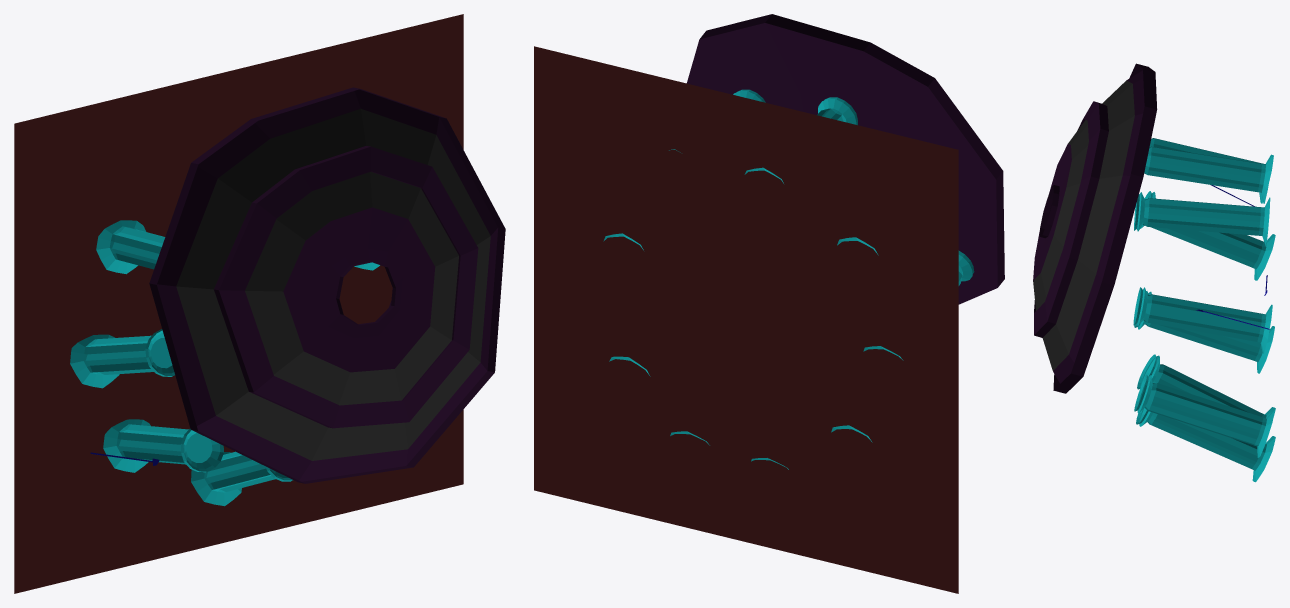
Rendered from SpearYard1d.obj.
The picture shows the model from 3 angles, left to right: view 1: azimuth 30°, elevation 25°; view 2: azimuth 150°, elevation 25°; view 3: azimuth 270°, elevation 25°; orthographic projection. The views are drawn at different scales.
Parts seen in each view (by area): view 1: Plane.012_Plane.013, Plane, Plane.001_Plane.012, Plane.002, Plane.003_Plane.014, Plane.009_Plane.020; view 2: Plane, Plane.012_Plane.013, Plane.008_Plane.019; view 3: Plane.012_Plane.013, Plane.005_Plane.016, Plane.006_Plane.017, Plane.007_Plane.018, Plane.008_Plane.019, Plane.004_Plane.015, Plane.002, Plane.003_Plane.014, Plane.001_Plane.012, Plane.009_Plane.020.
Boxes of the visible parts, <box> form: Plane.012_Plane.013: <box>149,87,505,483</box>; Plane: <box>14,14,463,593</box>; Plane.001_Plane.012: <box>103,419,223,472</box>; Plane.002: <box>70,329,174,388</box>; Plane.003_Plane.014: <box>191,451,292,506</box>; Plane.009_Plane.020: <box>96,220,165,274</box>; Plane: <box>534,46,958,593</box>; Plane.012_Plane.013: <box>686,14,1004,304</box>; Plane.008_Plane.019: <box>744,97,857,183</box>; Plane.012_Plane.013: <box>1033,63,1157,393</box>; Plane.005_Plane.016: <box>1134,374,1274,457</box>; Plane.006_Plane.017: <box>1133,287,1272,353</box>; Plane.007_Plane.018: <box>1134,192,1270,246</box>; Plane.008_Plane.019: <box>1144,146,1272,203</box>; Plane.004_Plane.015: <box>1136,408,1275,482</box>; Plane.002: <box>1140,191,1275,280</box>; Plane.003_Plane.014: <box>1137,354,1275,418</box>; Plane.001_Plane.012: <box>1134,291,1274,373</box>; Plane.009_Plane.020: <box>1149,138,1273,203</box>.
Size of the model in its own units: 1.31 by 1.37 by 0.7268.
